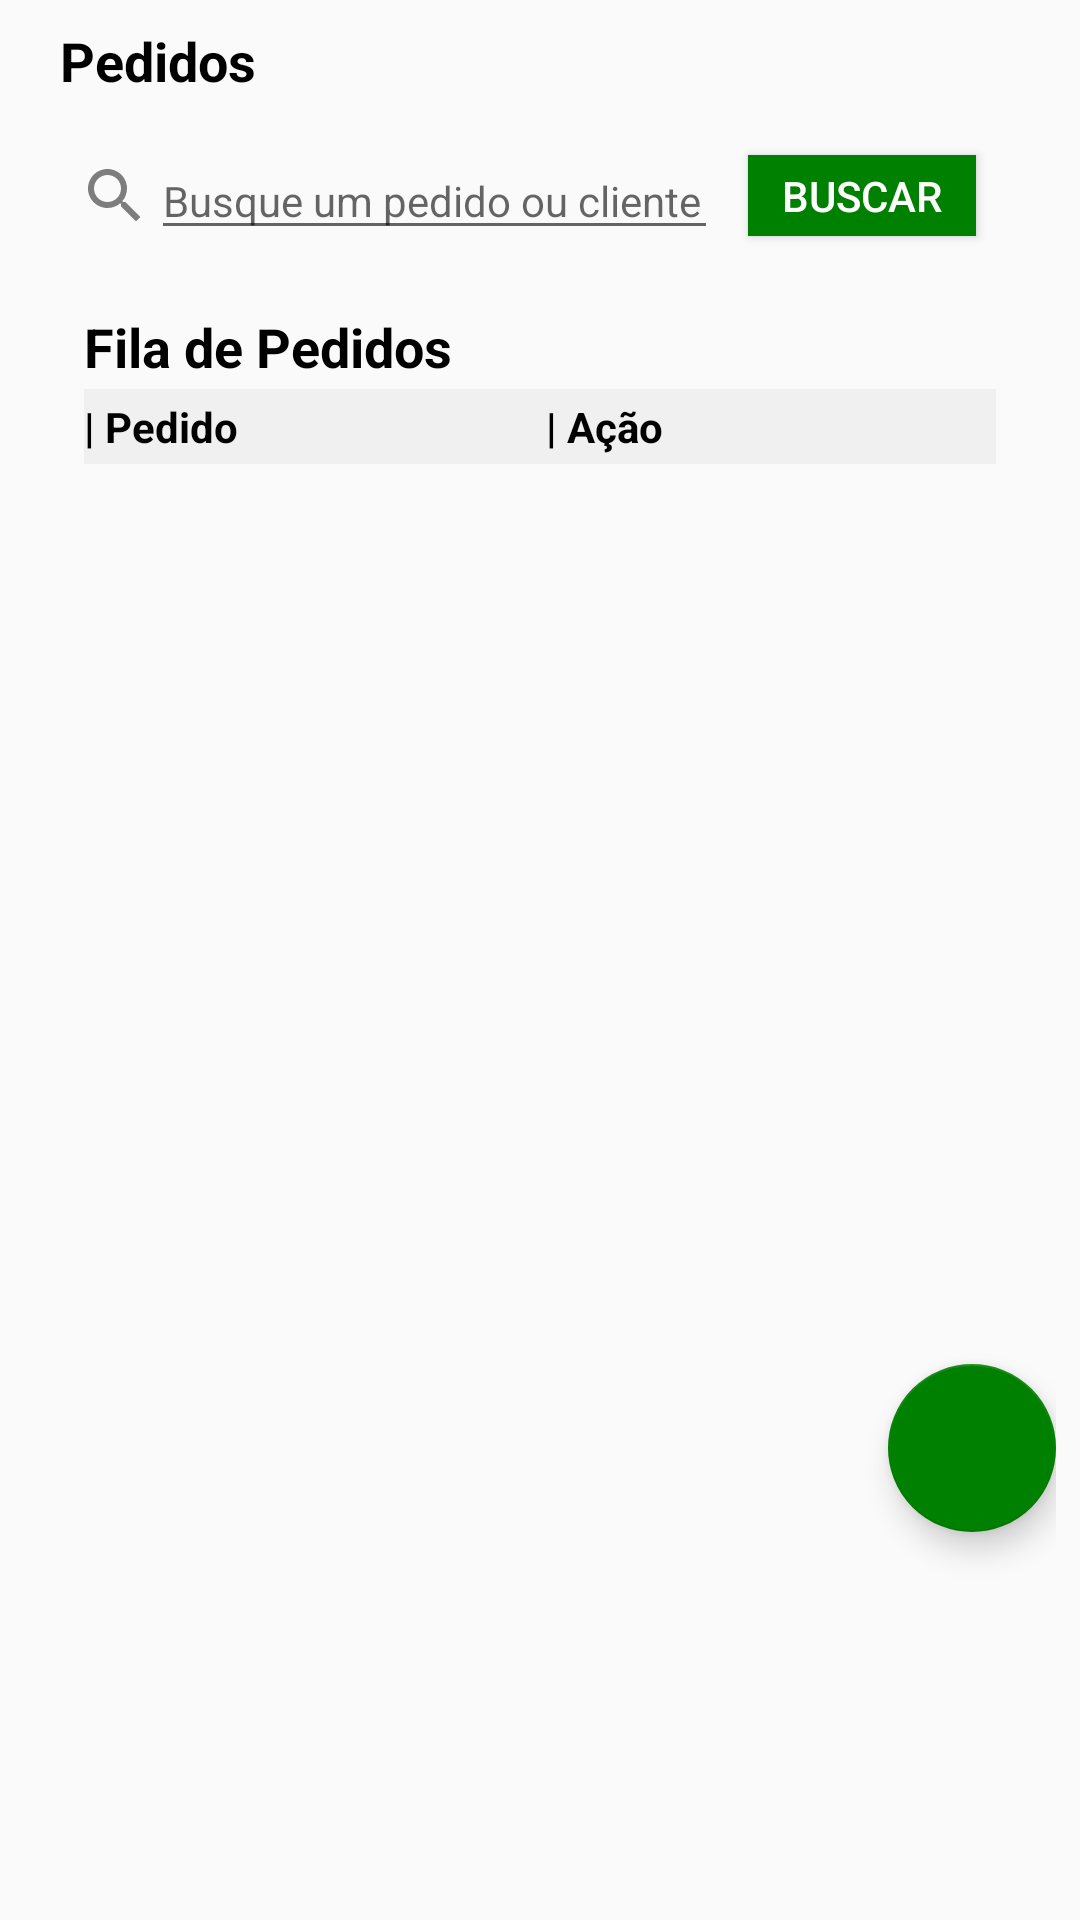

Named icons in this screenshot (1080w x 1920h) and their centers, point (x, y):
search: point (114, 195)
